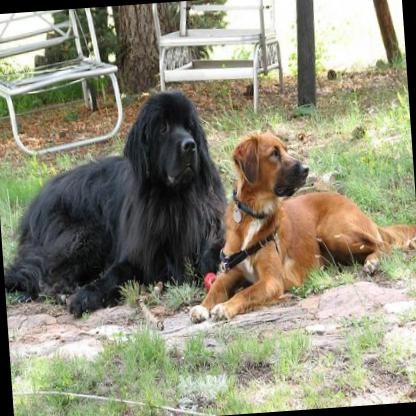Newfoundland: (0, 84, 235, 324)
